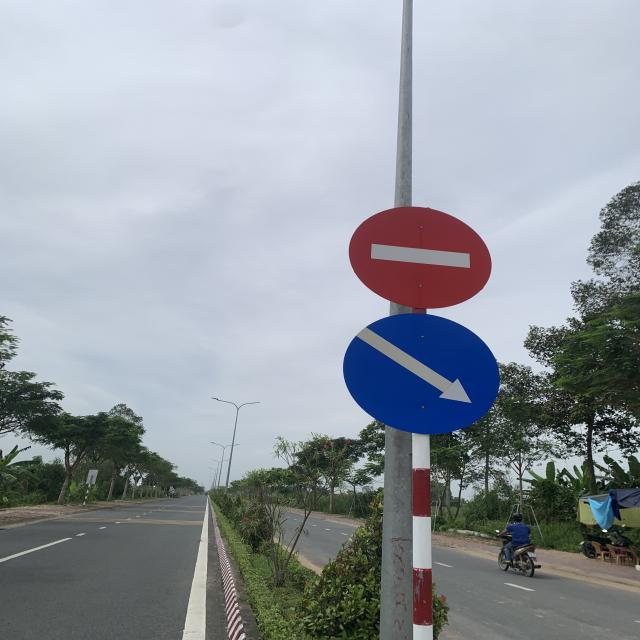Cam_Di_Nguoc_Chieu: (350, 207, 492, 310)
Chi_Huong_Di_Phai: (344, 314, 499, 433)
